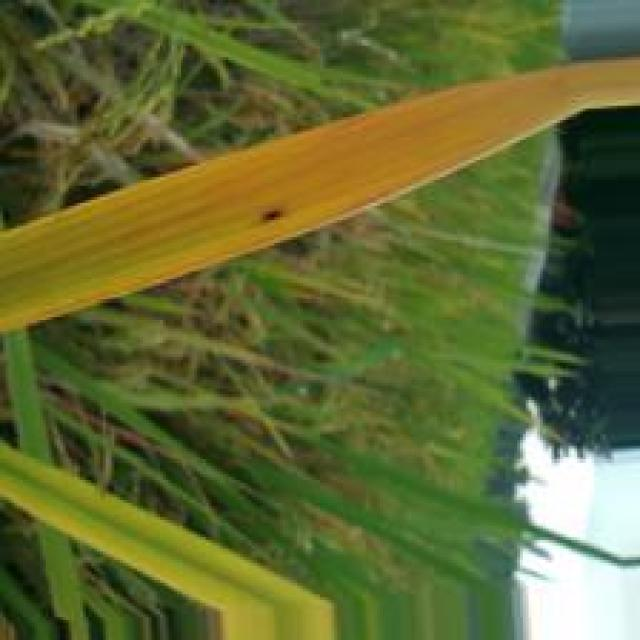Brown_Spot: (263, 205, 286, 229)
